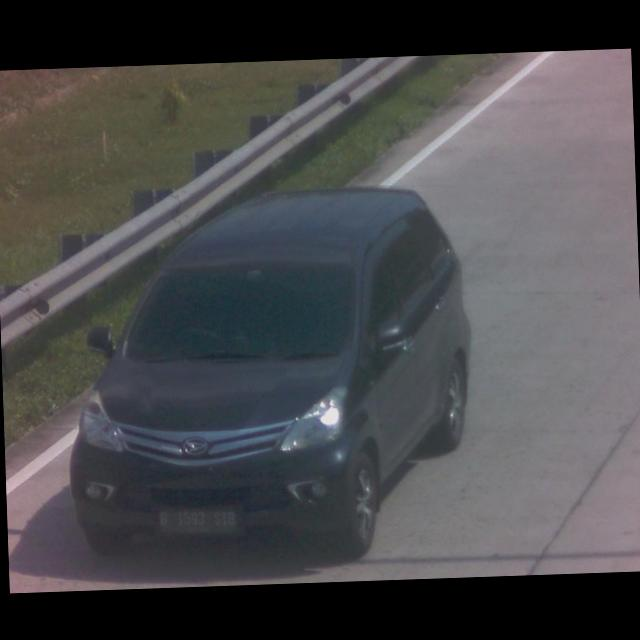plate: (156, 504, 242, 534)
